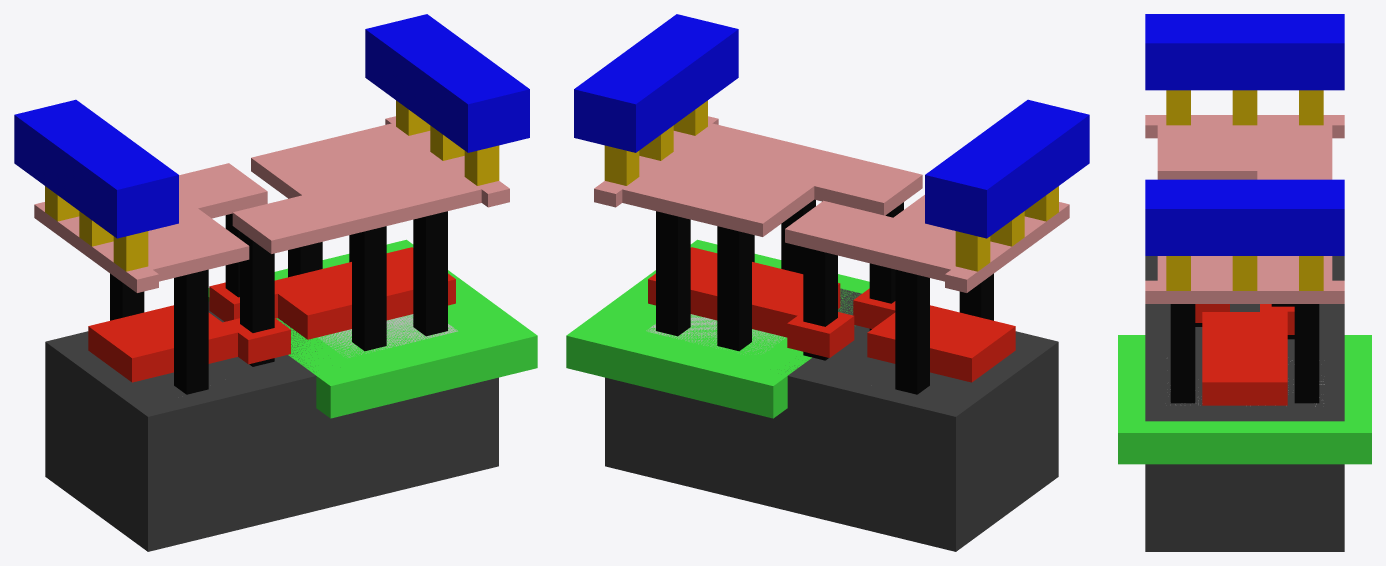
File: sky130_fd_sc_hd__decap_3.obj
3 renders of one model, left to right at view 1: azimuth 30°, elevation 25°; view 2: azimuth 150°, elevation 25°; view 3: azimuth 270°, elevation 25°, orthographic. The views are drawn at different scales.
Parts seen in each view (by area): view 1: subs, li, metal1, licon, nwell, poly, mcon, tap; view 2: subs, li, metal1, licon, nwell, poly, mcon, tap; view 3: metal1, subs, li, nwell, poly, mcon, licon.
Boxes of the visible parts, x1,y1,x2,y2 form: subs: [45, 302, 498, 551]; li: [34, 116, 509, 292]; metal1: [14, 14, 529, 238]; licon: [110, 211, 447, 394]; nwell: [208, 239, 537, 418]; poly: [88, 247, 455, 382]; mcon: [45, 100, 499, 271]; tap: [318, 314, 457, 357]; subs: [605, 288, 1058, 551]; li: [594, 116, 1069, 292]; metal1: [574, 14, 1089, 238]; licon: [656, 199, 993, 394]; nwell: [566, 239, 869, 418]; poly: [648, 247, 1015, 382]; mcon: [604, 100, 1058, 271]; tap: [646, 314, 785, 354]; metal1: [1145, 14, 1344, 255]; subs: [1145, 256, 1344, 551]; li: [1145, 115, 1344, 303]; nwell: [1118, 335, 1371, 464]; poly: [1195, 304, 1294, 405]; mcon: [1166, 90, 1323, 290]; licon: [1170, 304, 1319, 403].
Size of the model in its own units: 3.2 by 2.74 by 1.76.
